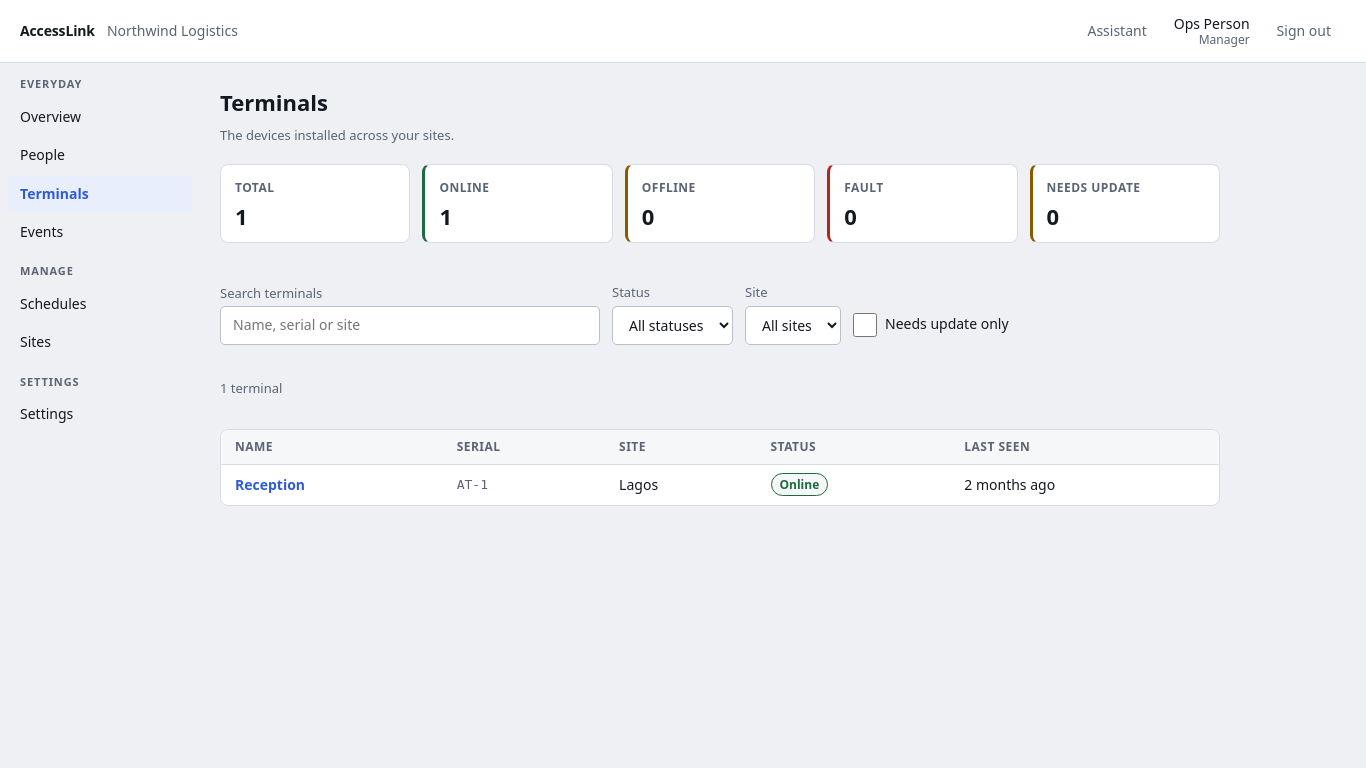
Test case: the safe write and the read › withdraws a command without a card and still refreshes the fleet
The image size is (1366, 768).
Expected: the link "Reception" is shown, [235,473,305,497]
Click the button "Assistant".
click(1117, 31)  # box [1072,12,1162,50]
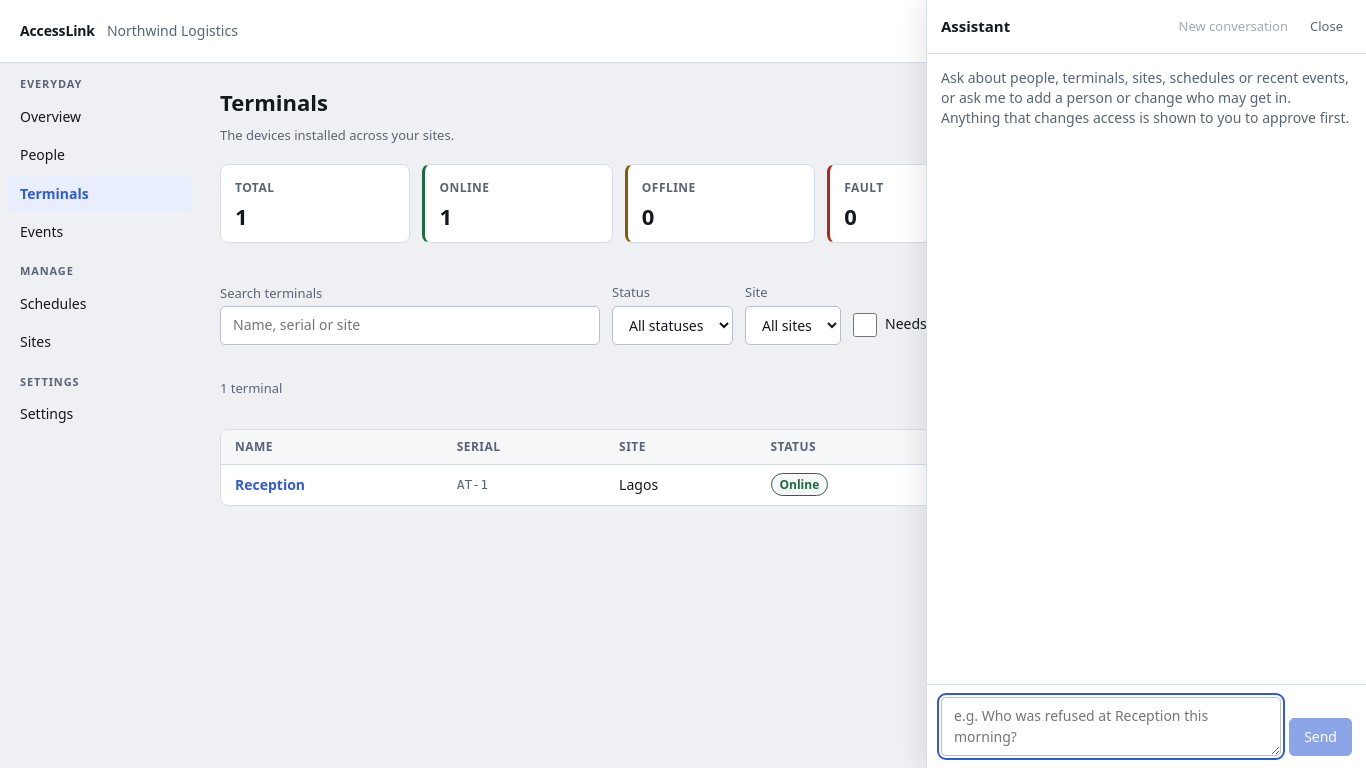
Type "cancel that diagnostic" into the text box named "Message the assistant".
click(1111, 727); type("cancel that diagnostic")  # box [941,697,1281,756]
Then press Enter
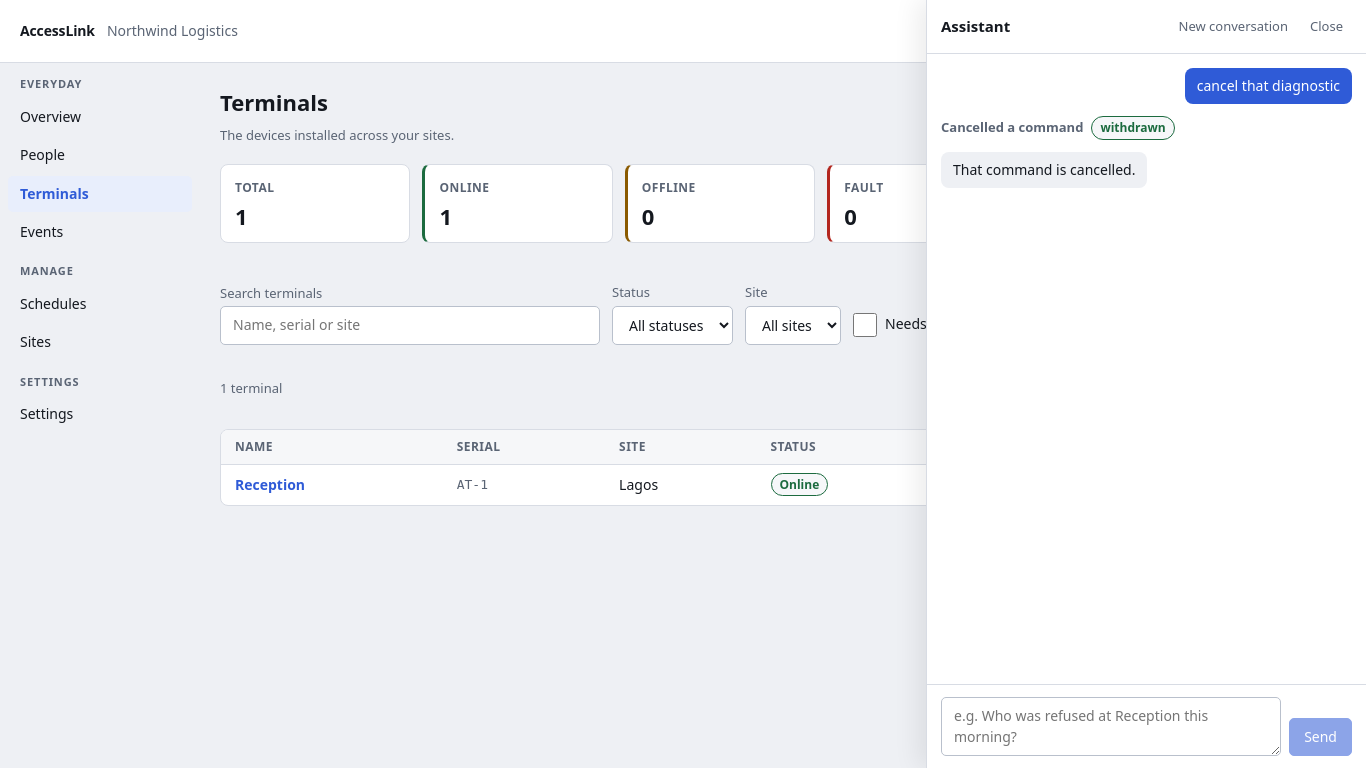
Now the text "That command is cancelled." is shown, box [941,152,1147,188]
Now the text "Cancelled a command" is shown, box [941,118,1083,137]
Now the text "Approve" is gone
